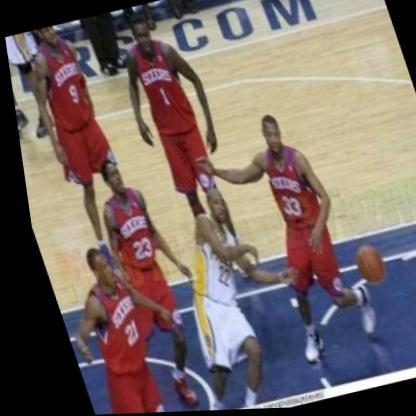basketball: (337, 239, 388, 294)
